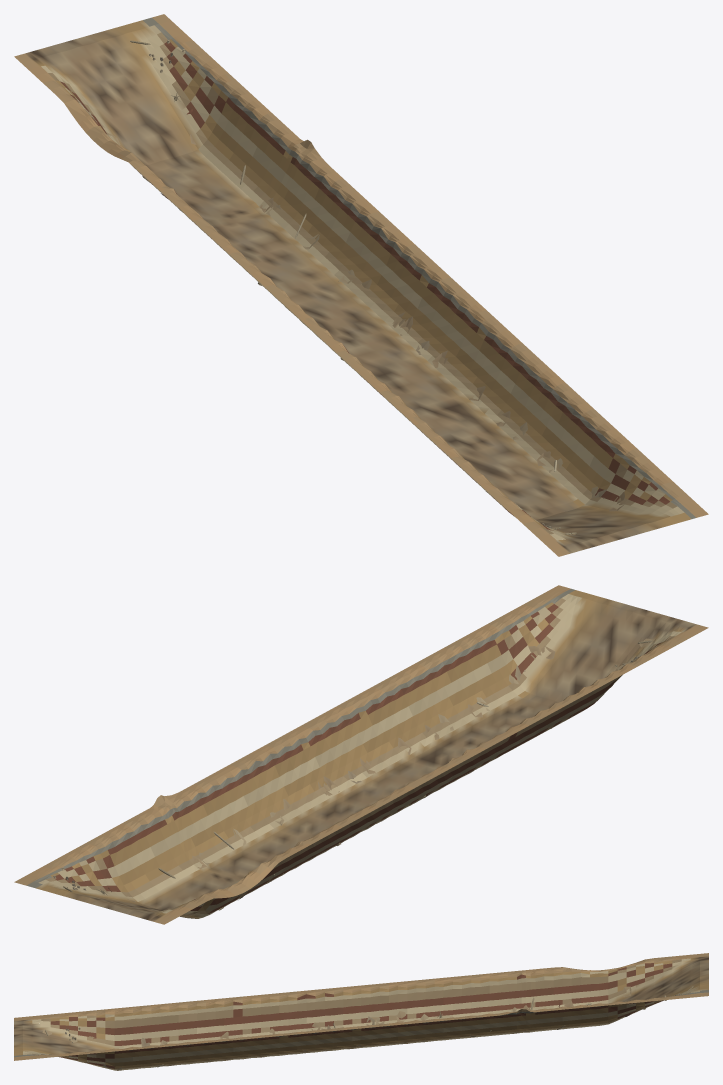
Rendered from liner_east_wash.glb.
3 views of the same model, one above another, from view 1: azimuth 30°, elevation 25°; view 2: azimuth 150°, elevation 25°; view 3: azimuth 270°, elevation 25° (orthographic). The views are drawn at different scales.
Visible parts, largest first — view 1: liner_east_wash_body; view 2: liner_east_wash_body; view 3: liner_east_wash_body.
Part boxes in pixels (x1=…): liner_east_wash_body: x1=14, y1=14, x2=708, y2=556; liner_east_wash_body: x1=14, y1=585, x2=708, y2=924; liner_east_wash_body: x1=14, y1=953, x2=708, y2=1070.
Bounding box in the file's own units: 36 × 32.51 × 226.
